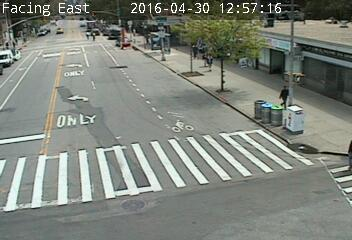neg: (246, 94, 270, 126), (240, 50, 256, 72)
pos: (275, 80, 297, 109)
